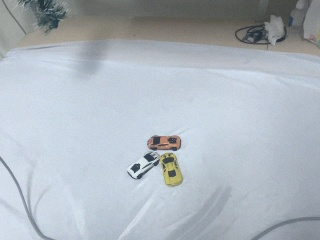toy_car: (127, 151, 160, 179), (160, 153, 183, 186), (147, 135, 181, 151)
